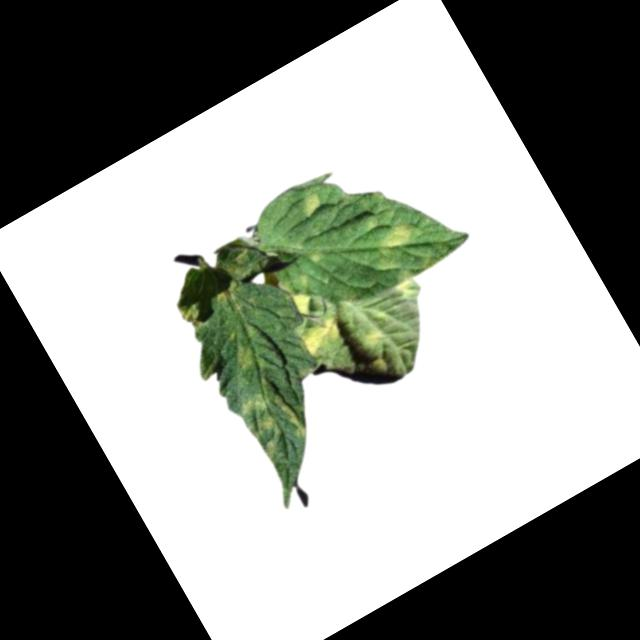Leaf_Mold: (227, 371, 313, 466), (364, 218, 427, 274), (292, 309, 352, 365), (227, 337, 262, 375), (286, 285, 321, 320), (295, 187, 329, 221), (390, 273, 424, 307), (360, 325, 387, 352)
